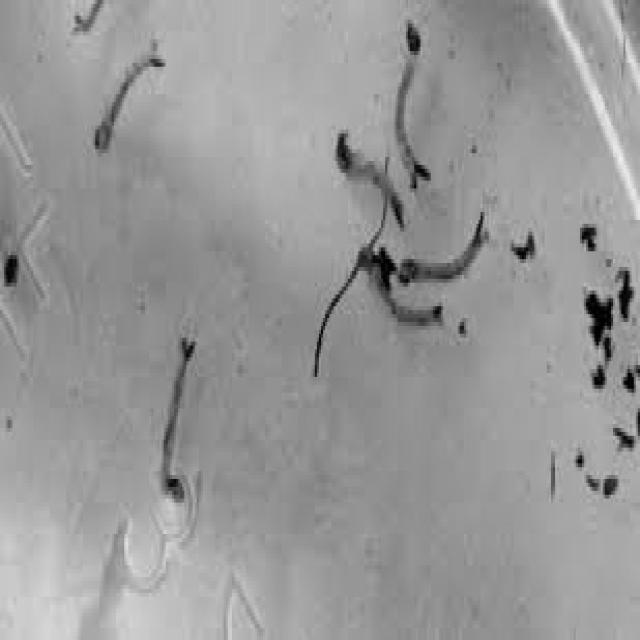larvas: (94, 44, 162, 153), (364, 251, 442, 330), (336, 134, 403, 225), (402, 212, 486, 284), (164, 339, 196, 503), (397, 23, 429, 186), (73, 3, 109, 31), (3, 244, 20, 288)
